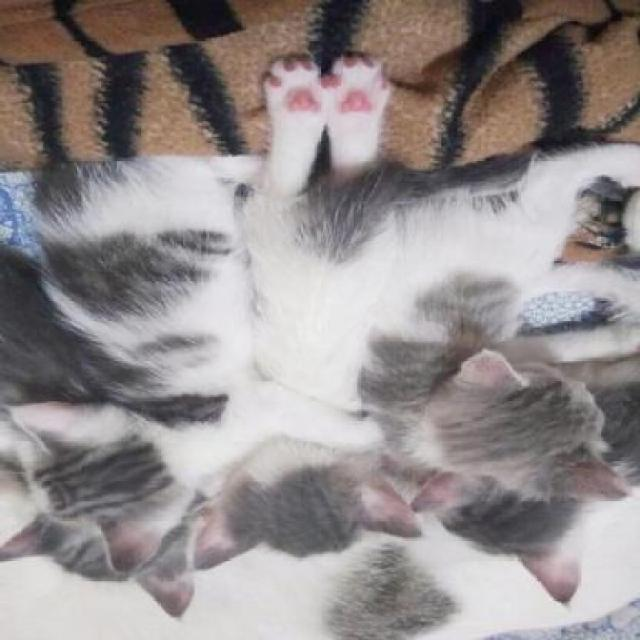cat: (20, 126, 249, 477), (222, 54, 406, 417), (152, 424, 454, 574), (388, 330, 640, 504), (0, 364, 195, 570)
